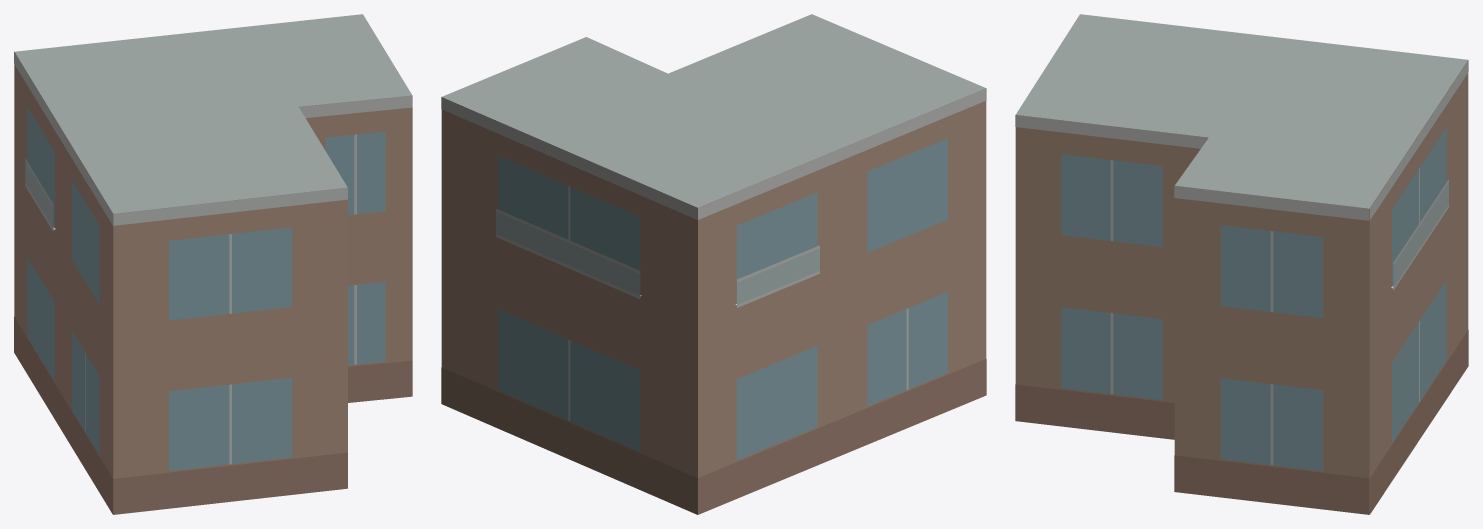
The model's file is survey-upis-32487052.glb.
3 views of the same model, side by side, from view 1: azimuth 30°, elevation 25°; view 2: azimuth 150°, elevation 25°; view 3: azimuth 270°, elevation 25° (orthographic). The views are drawn at different scales.
Visible parts, largest first — view 1: survey-upis-32487052.tmp; view 2: survey-upis-32487052.tmp; view 3: survey-upis-32487052.tmp.
Boxes of the visible parts, x1,y1,x2,y2 form: survey-upis-32487052.tmp: [14, 14, 412, 514]; survey-upis-32487052.tmp: [441, 14, 986, 514]; survey-upis-32487052.tmp: [1015, 14, 1468, 514].
Size of the model in its own units: 8.32 by 6.1 by 8.19.
